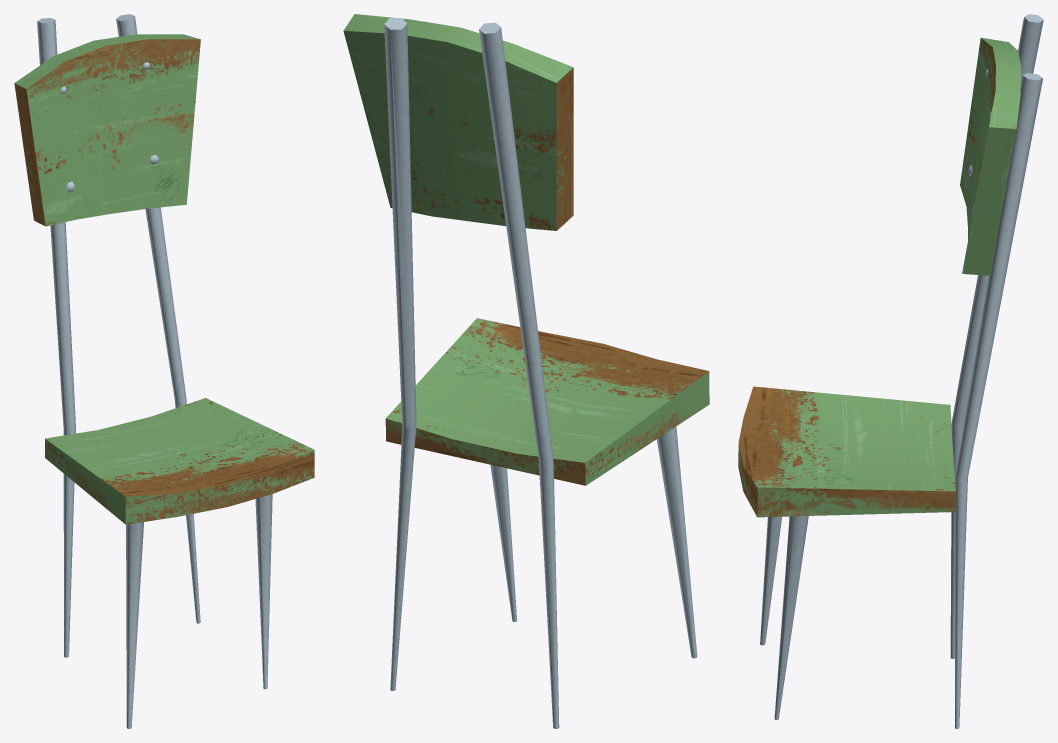
The model's file is School Chair.obj.
3 renders of one model, left to right at view 1: azimuth 30°, elevation 25°; view 2: azimuth 150°, elevation 25°; view 3: azimuth 270°, elevation 25°, orthographic. The views are drawn at different scales.
Visible parts, largest first — view 1: chair_school; view 2: chair_school; view 3: chair_school.
Part boxes in pixels (box(x1,y1,x2,y2)): chair_school: box(14, 14, 314, 728); chair_school: box(343, 14, 709, 728); chair_school: box(738, 14, 1043, 728).
Bounding box in the file's own units: 0.6874 × 2.08 × 0.8873.
2 materials, 2 textured.
